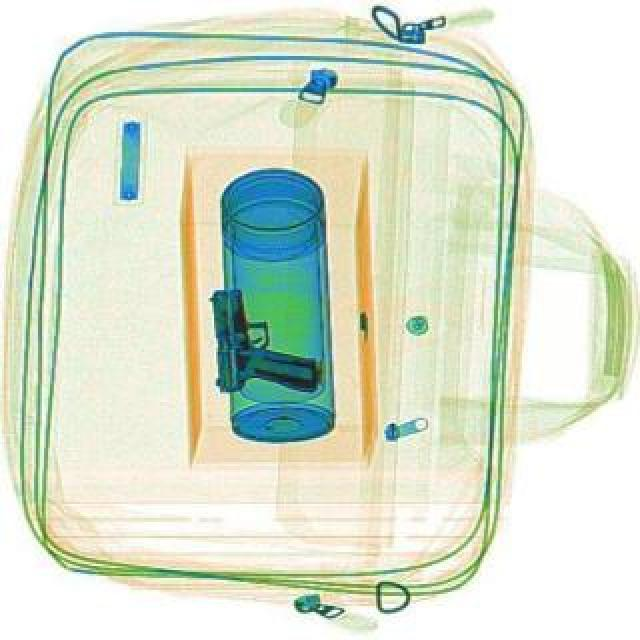gun: (208, 282, 316, 396)
